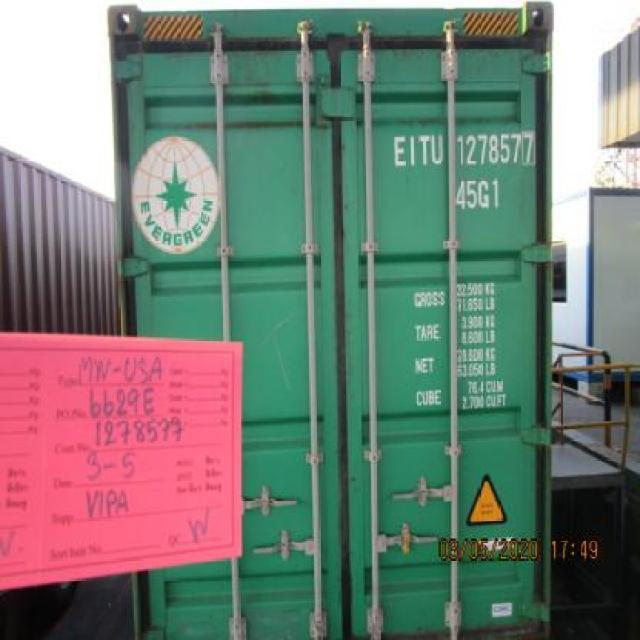ISO: (459, 176, 501, 208)
container_number: (392, 134, 534, 166)
